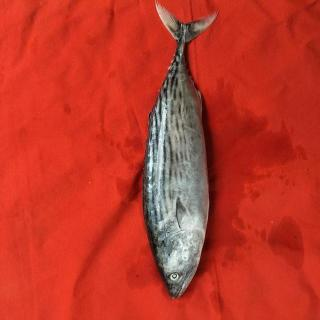Ikan: (135, 6, 225, 308)
